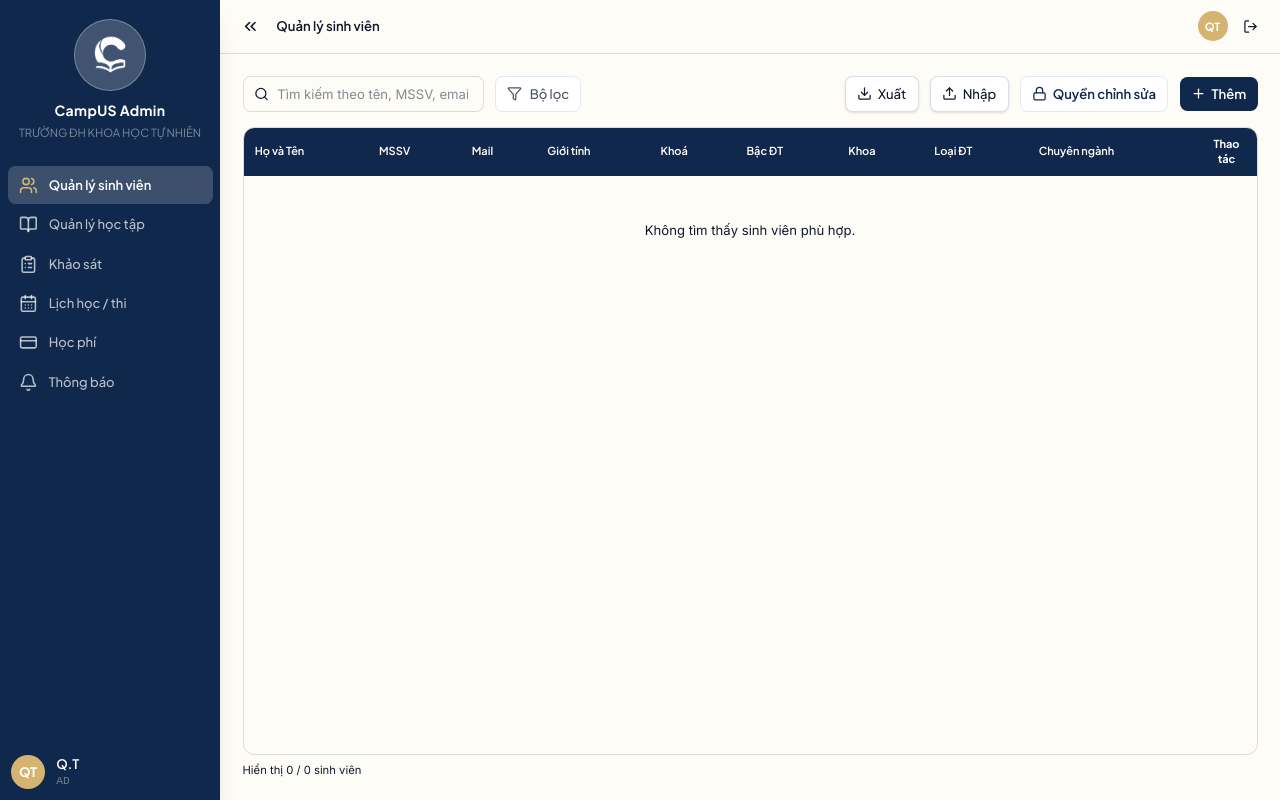
Test: Unit Test: Manage Academic Years (UC 2.15) › [TC_2.15_01 & 05]: Verify list rendering and drill-down navigation
What coordinates should you click on to do the following:
click the button "Quản lý học tập"
I would click on:
 (110, 225)
Its box is [8,206,212,243].
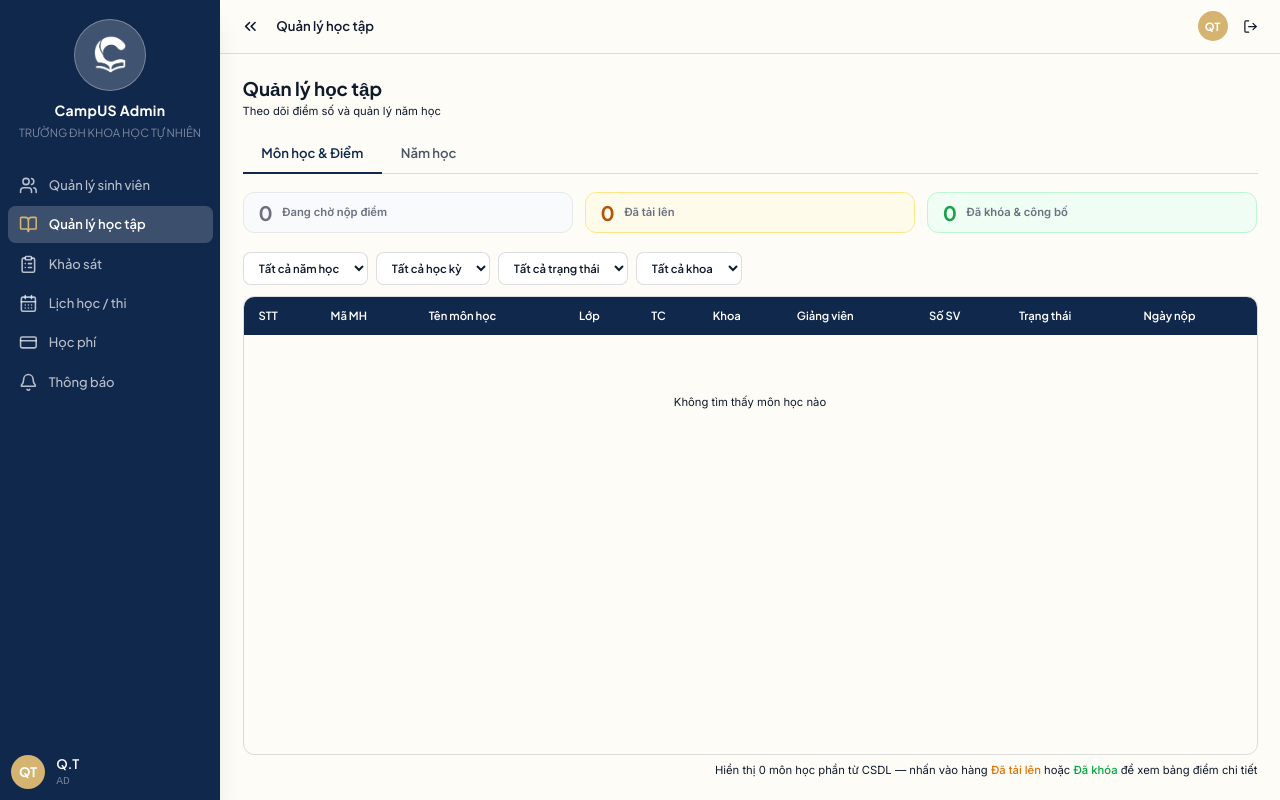
What coordinates should you click on to do the following:
click the button "Năm học"
I would click on:
 (429, 154)
Its box is [382,134,475,174].
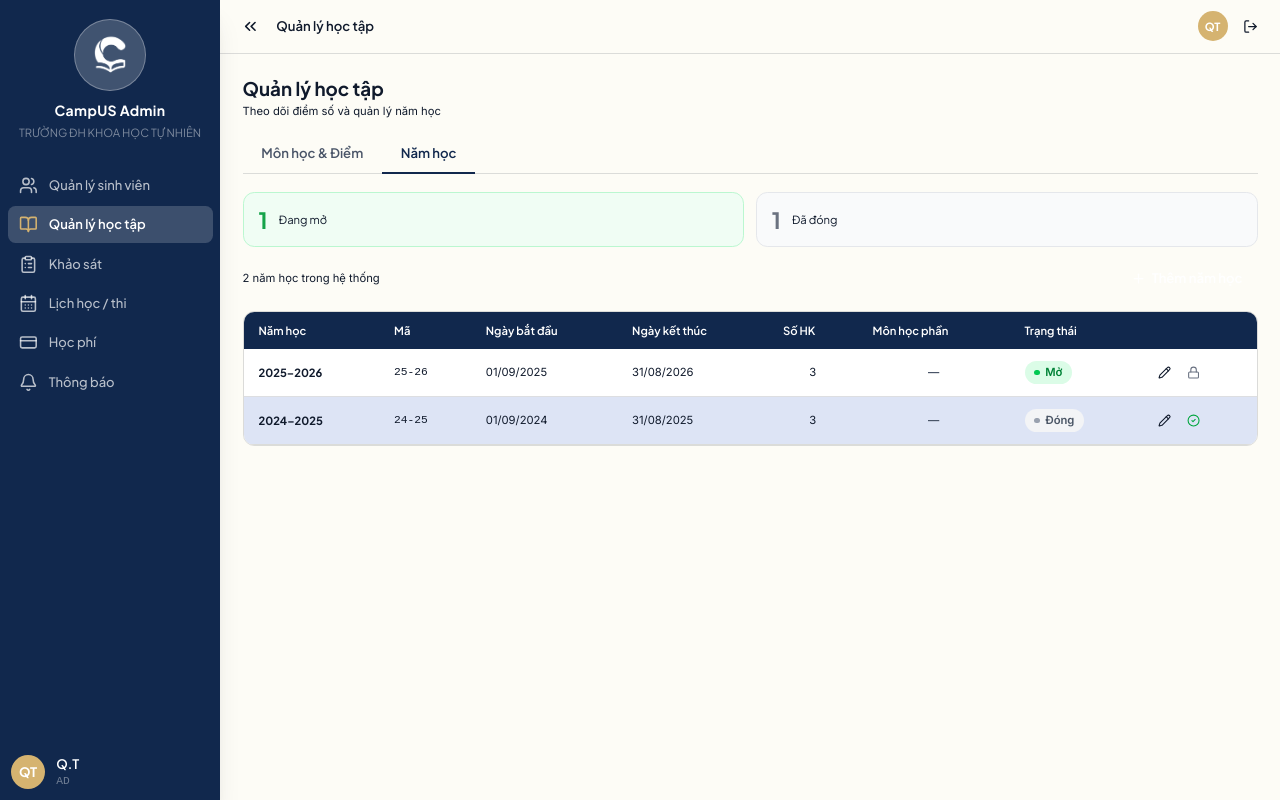
Expected: the text "2025–2026" is shown
What coordinates should you click on to do the following:
click the text "2025–2026"
I would click on:
 (311, 373)
Its box is [244,349,379,396].
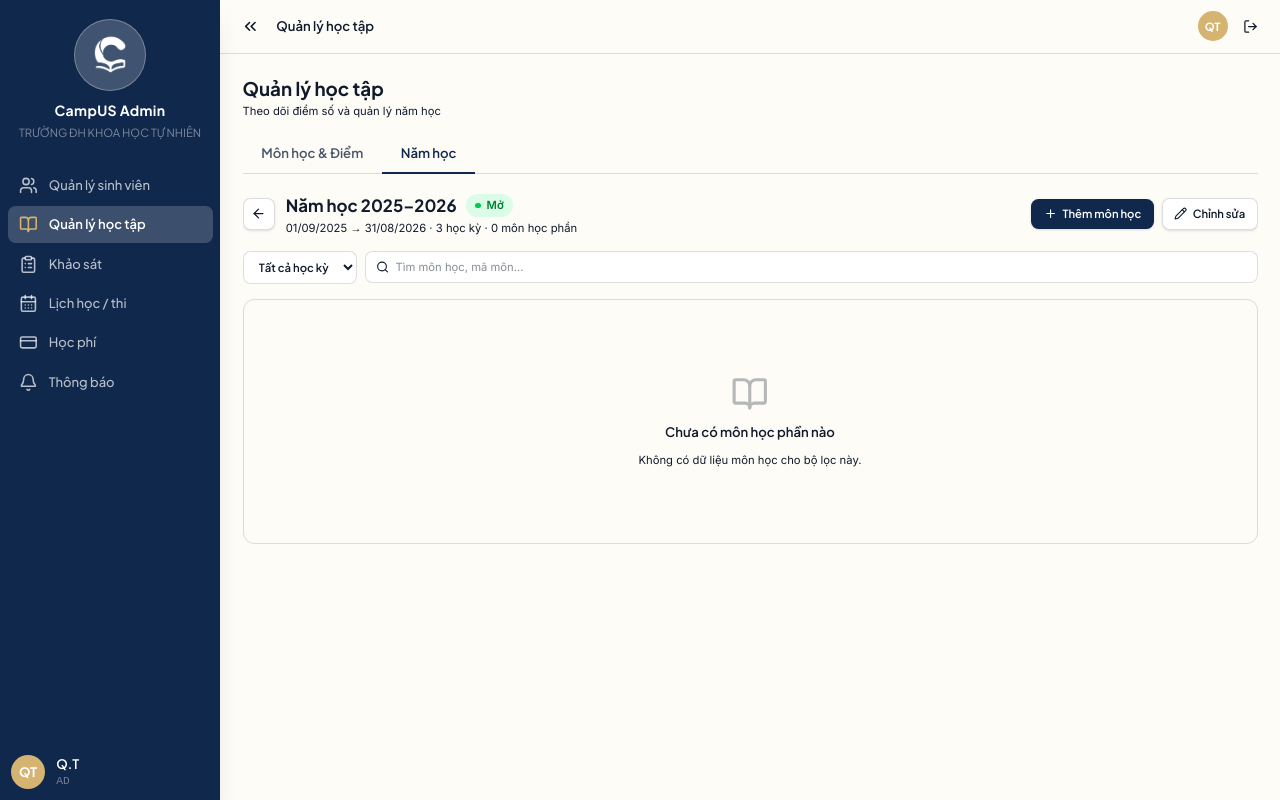
Expected: the heading "Năm học 2025–2026" is shown, [286,192,457,219]
Expected: the text "Chưa có môn học phần nào" is shown, [665,423,835,442]
